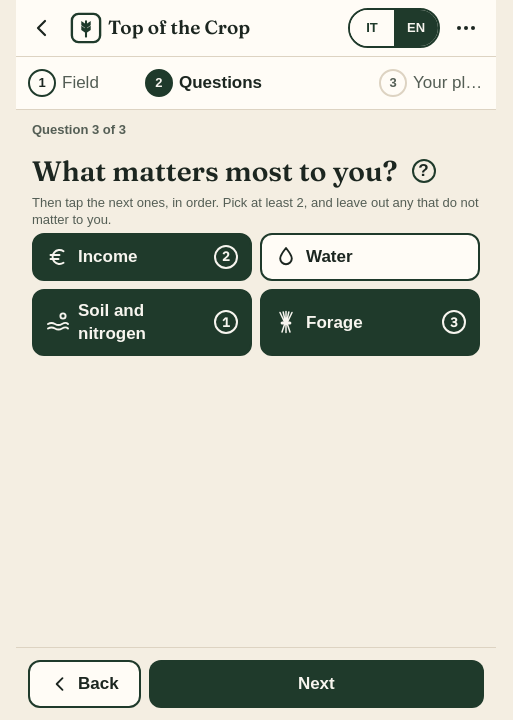
it: Options › taking a chip out on Questions moves the rest up, and the plan re-ranks
Check: the text "Question 3 of 3" is shown, box [32, 122, 126, 137]
Click the checkbox labelled "Soil and nitrogen" at (142,322), box [32, 289, 252, 356]
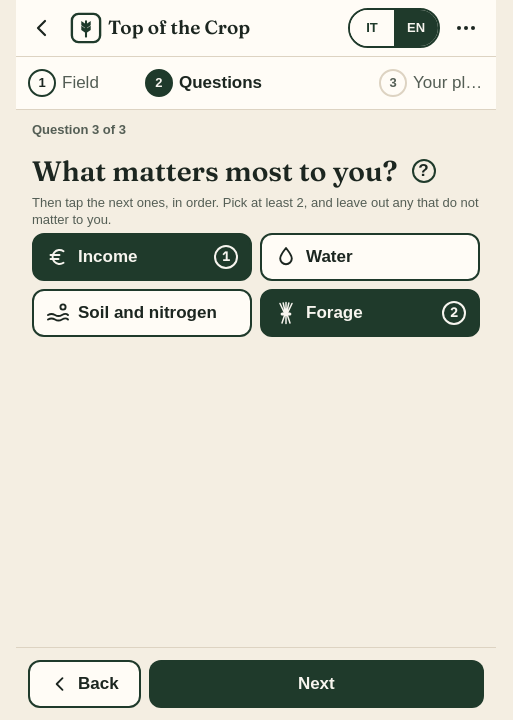
Check: the checkbox labelled "Soil and nitrogen" is not checked, box [32, 289, 252, 337]
Check: the checkbox labelled "Income" has attribute data-rank="1", box [32, 233, 252, 281]
Check: the checkbox labelled "Forage" has attribute data-rank="2", box [260, 289, 480, 337]
Click the button "Next" at (316,684), box [149, 660, 484, 708]
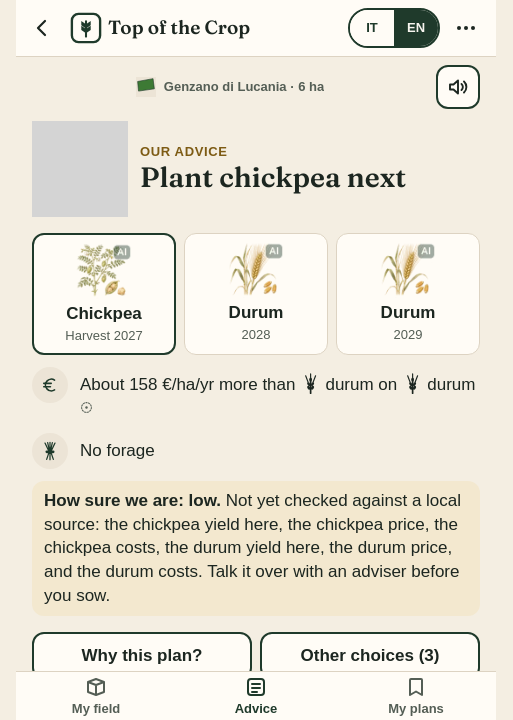
Check: the heading with test id "rec-headline" reads "Plant chickpea next", box [140, 160, 406, 194]
